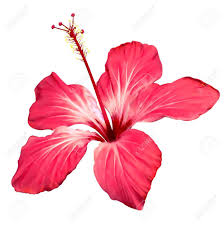hybiscus: (9, 12, 220, 213)
